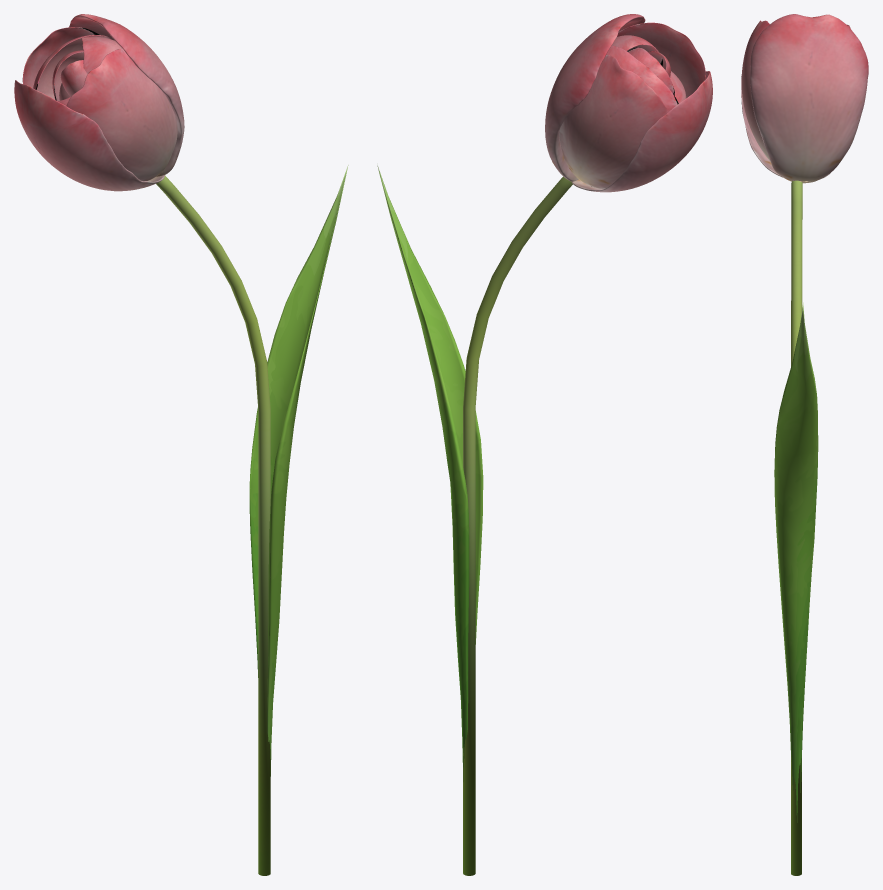
The model's file is flower2.glb.
3 renders of one model, left to right at view 1: azimuth 30°, elevation 25°; view 2: azimuth 150°, elevation 25°; view 3: azimuth 270°, elevation 25°, orthographic. The views are drawn at different scales.
Visible parts, largest first — view 1: Leaf, Stem, Petal_2, Petal_1, Petal_8, Petal_3, Petal_7, Petal_5, Petal_6; view 2: Leaf, Petal_3, Stem, Petal_1, Petal_8, Petal_2, Petal_7; view 3: Petal_8, Leaf, Stem, Petal_2, Petal_1.
Boxes of the visible parts, <box> form: Leaf: <box>249,165,348,776</box>; Stem: <box>156,175,270,875</box>; Petal_2: <box>66,48,177,181</box>; Petal_1: <box>14,80,164,191</box>; Petal_8: <box>69,14,184,176</box>; Petal_3: <box>22,27,99,87</box>; Petal_7: <box>33,35,110,99</box>; Petal_5: <box>81,36,122,73</box>; Petal_6: <box>60,60,87,96</box>; Leaf: <box>377,165,483,781</box>; Petal_3: <box>559,55,667,188</box>; Stem: <box>463,176,572,875</box>; Petal_1: <box>571,71,712,192</box>; Petal_8: <box>545,14,645,181</box>; Petal_2: <box>617,22,705,97</box>; Petal_7: <box>606,45,678,112</box>; Petal_8: <box>750,14,868,183</box>; Leaf: <box>774,302,818,822</box>; Stem: <box>791,180,802,875</box>; Petal_2: <box>741,20,770,161</box>; Petal_1: <box>741,76,830,181</box>.
Size of the model in its own units: 4.42 by 11.56 by 1.69.
4 materials, 4 textured.
